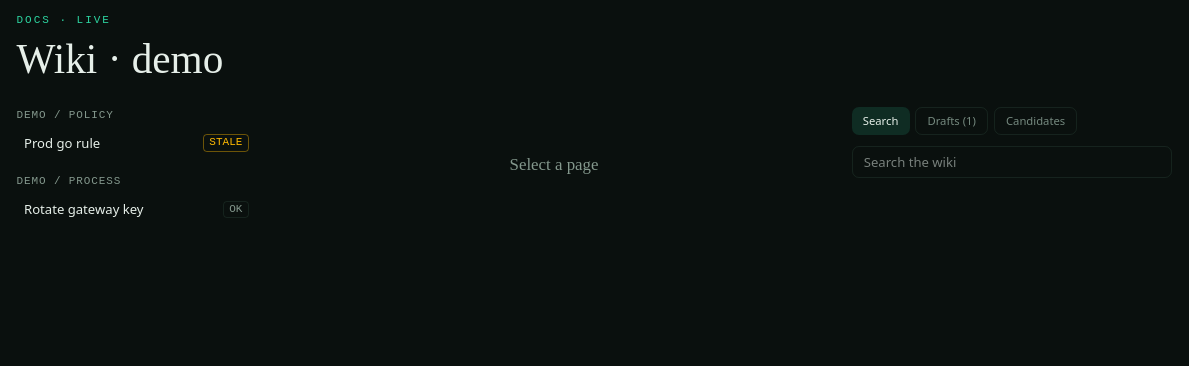
Test case: /wiki route › Open on a draft renders the draft body with approve/reject
The width and height of the screenshot is (1189, 366).
Click the button "Drafts (1)" at point(952, 121), box [915, 107, 988, 135]
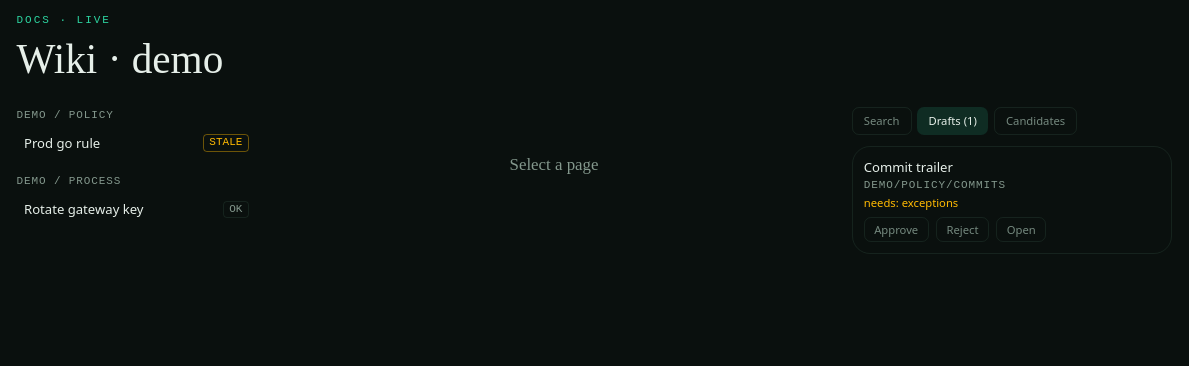
Click the button "Open" at point(1021, 230), box [996, 217, 1046, 242]
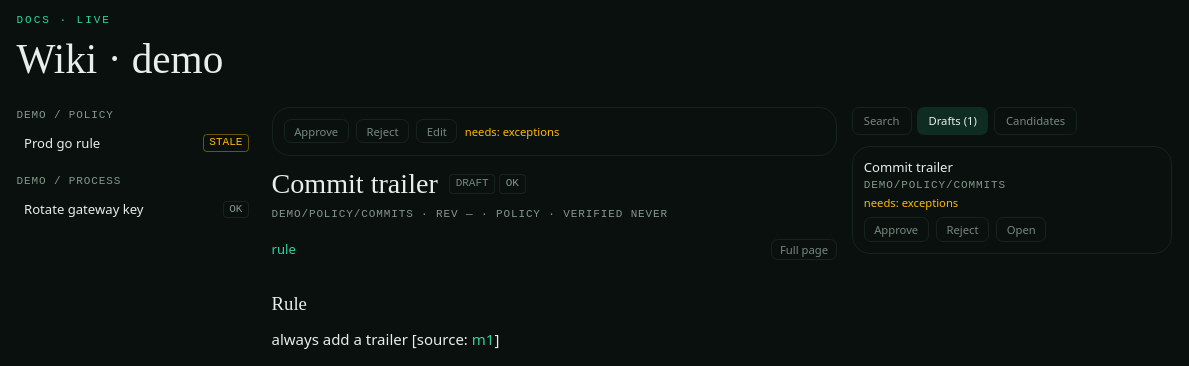
Check: the text "always add a trailer [source: m1 ]" is shown, box [272, 329, 499, 349]
